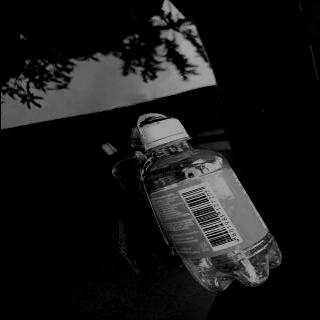bottle: (138, 116, 288, 294)
